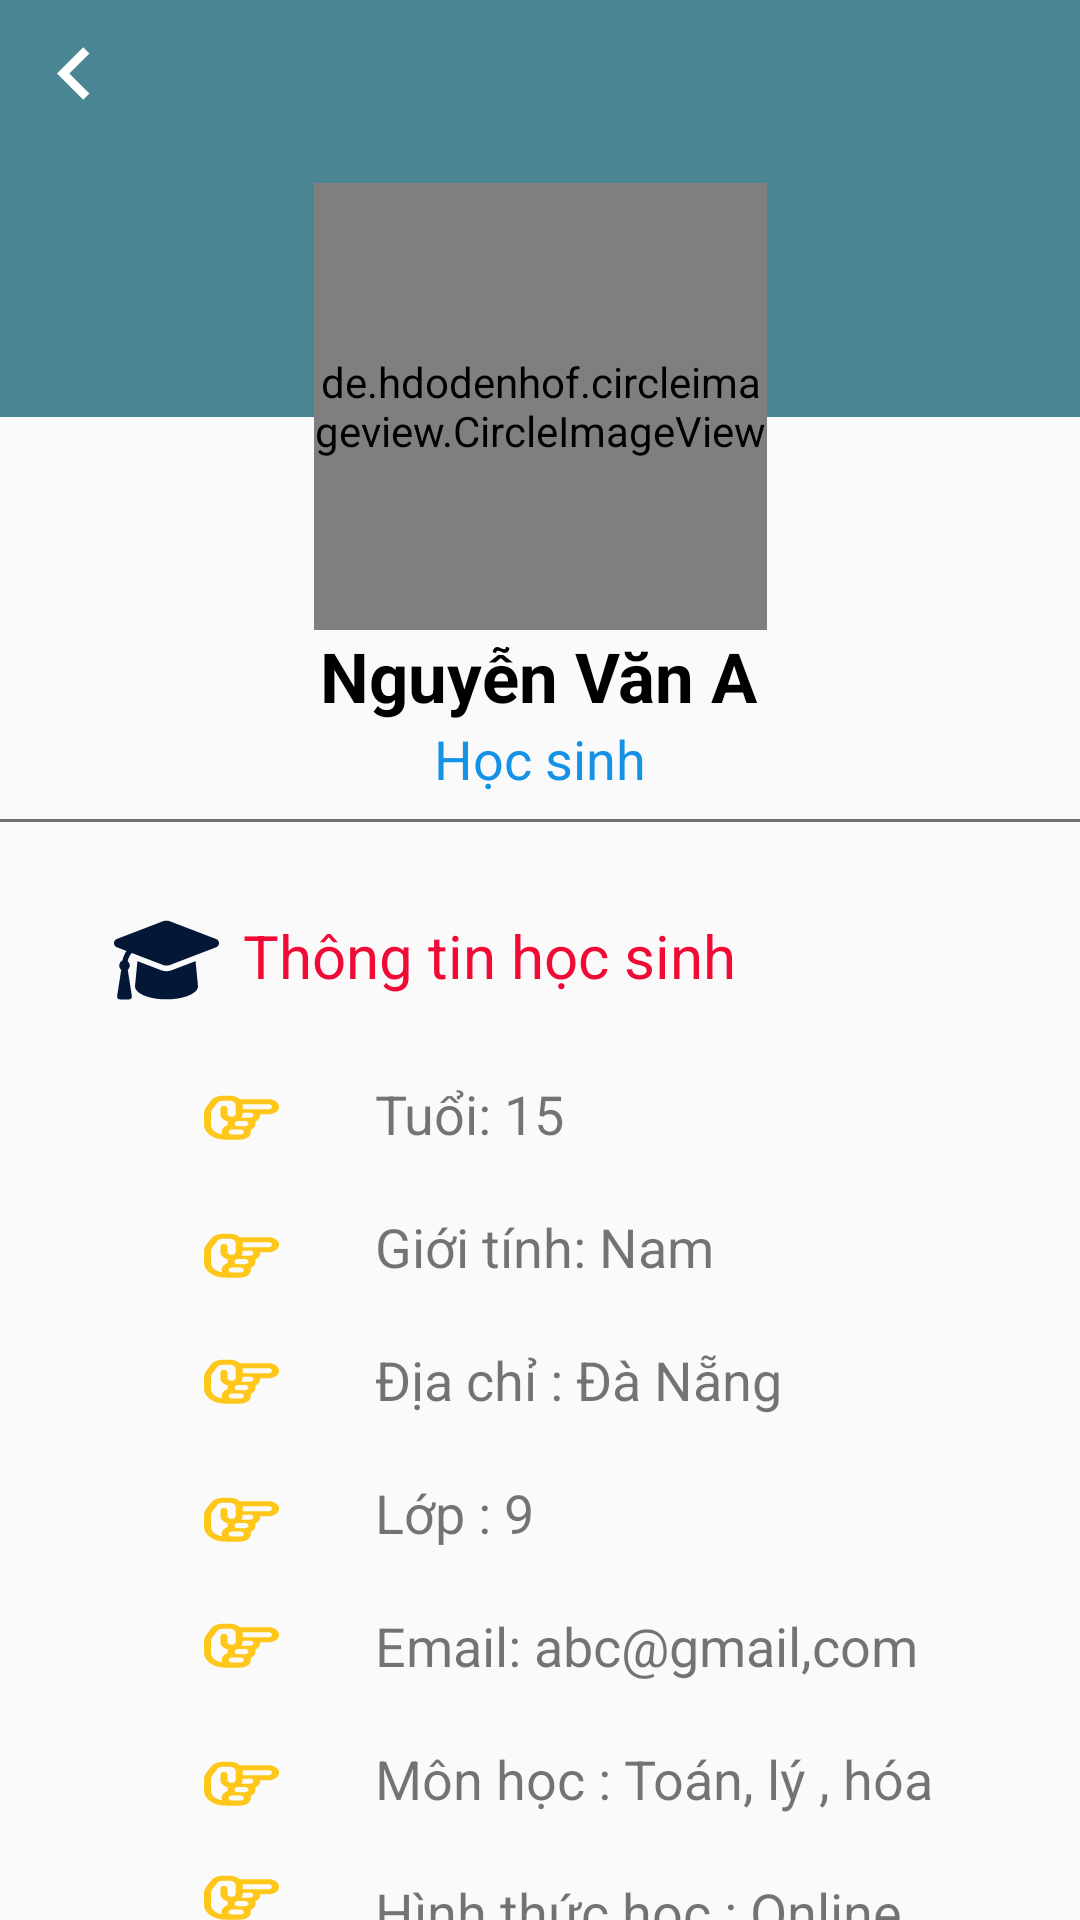

Locate icon controls on the screen. Image size 1080px x 1920px, boxes as (x1, y1, x2, y2).
graduation: (114, 920, 219, 1000)
hand right: (204, 1095, 279, 1140), (204, 1233, 279, 1278), (204, 1359, 279, 1404), (204, 1497, 279, 1542), (204, 1623, 279, 1668), (204, 1761, 279, 1806), (204, 1875, 279, 1920)
keyboard arrow left: (57, 47, 90, 100)
